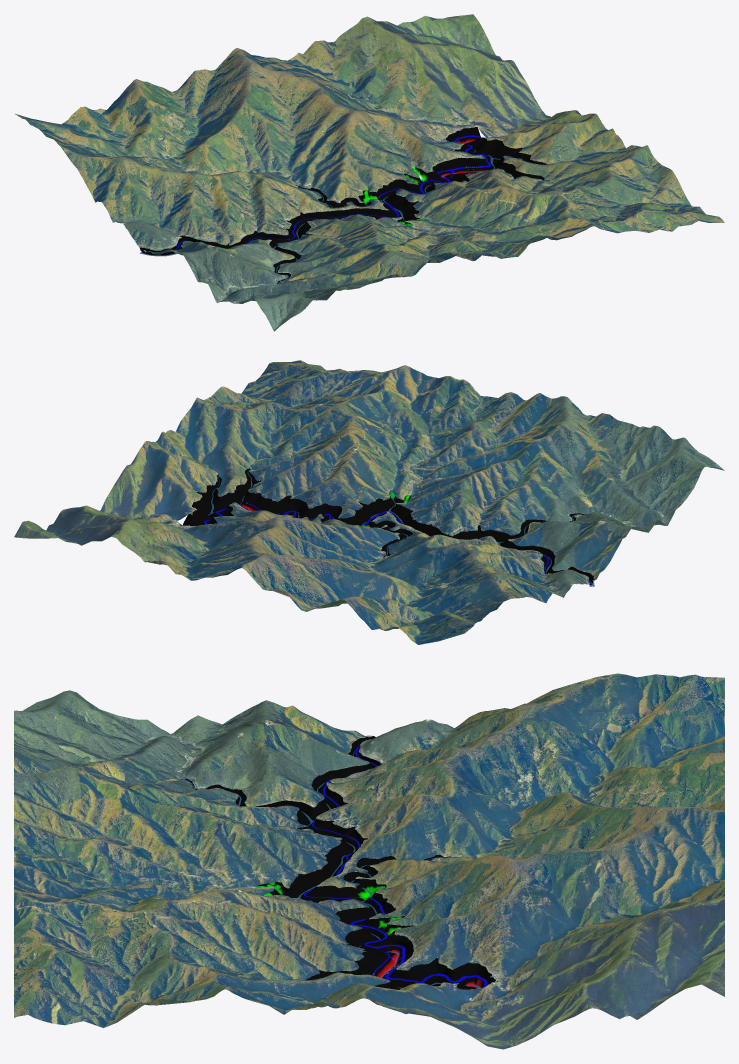
The model's file is OkutamaLake_allmodel_test.fbx.
3 renders of one model, top to bottom at view 1: azimuth 30°, elevation 25°; view 2: azimuth 150°, elevation 25°; view 3: azimuth 270°, elevation 25°, orthographic. The views are drawn at different scales.
Parts seen in each view (by area): view 1: Retopo_OriginalMap.001, GroundModeling; view 2: Retopo_OriginalMap.001, GroundModeling, RiverWater; view 3: Retopo_OriginalMap.001, GroundModeling, RiverWater.
Boxes of the visible parts, bbox=[...] form: Retopo_OriginalMap.001: bbox=[15, 14, 724, 331]; GroundModeling: bbox=[140, 127, 546, 283]; Retopo_OriginalMap.001: bbox=[14, 360, 724, 644]; GroundModeling: bbox=[181, 468, 594, 585]; RiverWater: bbox=[208, 446, 594, 586]; Retopo_OriginalMap.001: bbox=[14, 673, 724, 1049]; GroundModeling: bbox=[184, 736, 495, 989]; RiverWater: bbox=[183, 751, 480, 997].
Bounding box in the file's own units: 1564637 × 215274 × 1556416.
